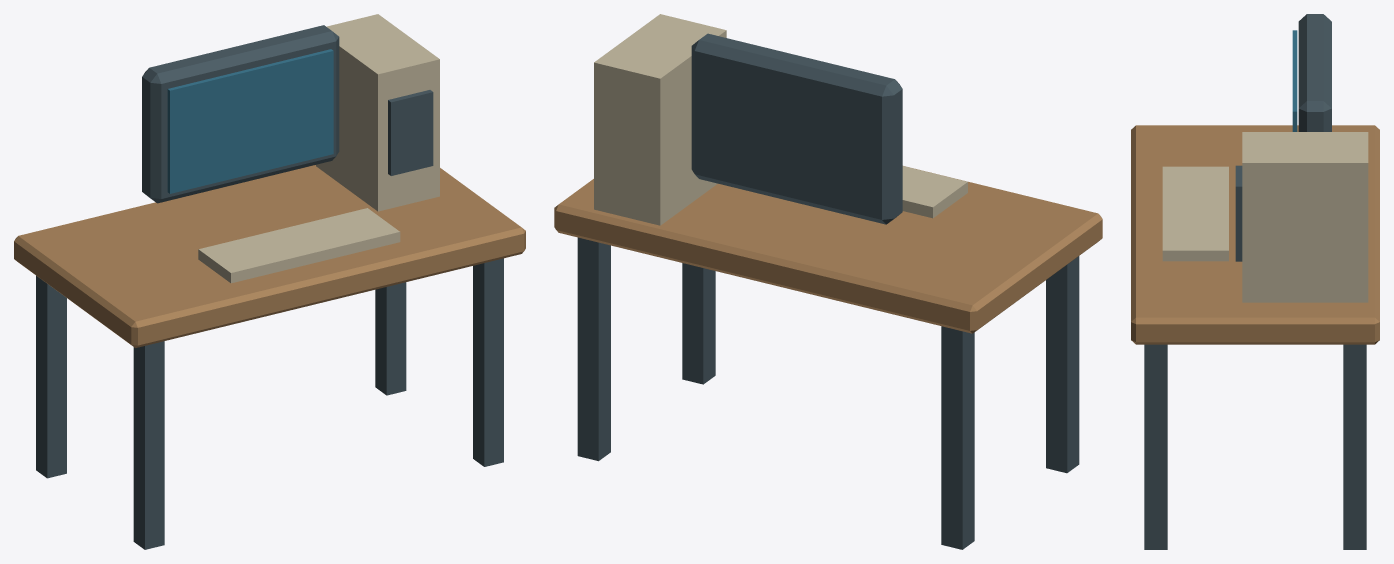
The model's file is computer_station.glb.
3 renders of one model, left to right at view 1: azimuth 30°, elevation 25°; view 2: azimuth 150°, elevation 25°; view 3: azimuth 270°, elevation 25°, orthographic. The views are drawn at different scales.
Visible parts, largest first — view 1: computer_station; view 2: computer_station; view 3: computer_station.
Boxes of the visible parts, <box> form: computer_station: <box>14,14,525,549</box>; computer_station: <box>554,14,1102,549</box>; computer_station: <box>1131,14,1379,549</box>.
Bounding box in the file's own units: 1.4 × 1.34 × 0.75.
